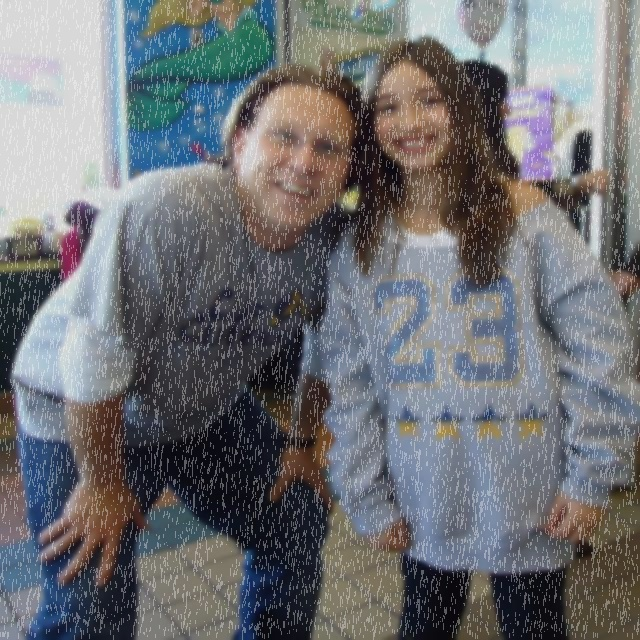pessoa: (0, 55, 388, 639), (304, 30, 640, 640), (460, 60, 610, 558), (596, 250, 639, 298)
